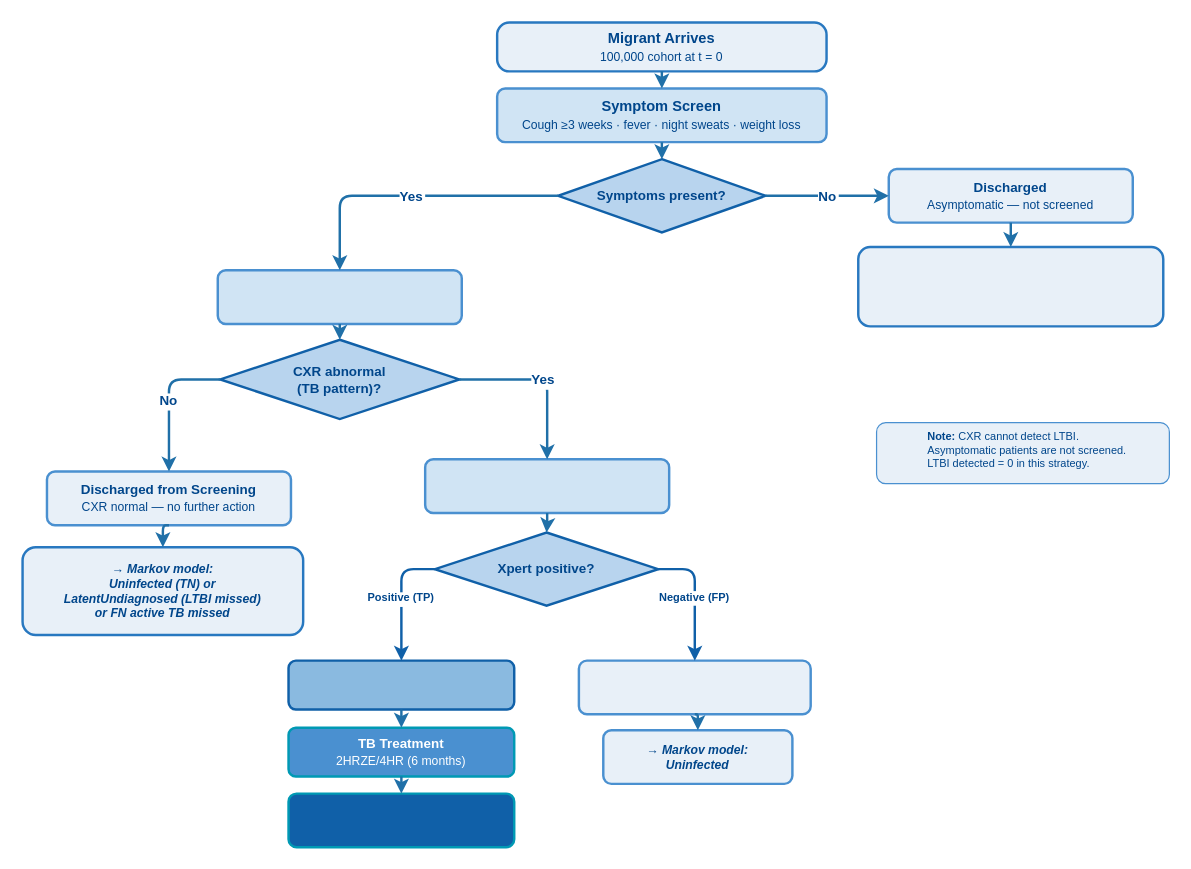
Some shapes in this 1191 by 869 pixel diagram are drawn without their labels. The box of each missing label's shape, as (x1, y1, x2, y2) in pixels:
Active TB Confirmed (TP): (287, 659, 515, 710)
Chest X-ray (CXR) TB-pattern abnormality screen: (216, 268, 462, 325)
Culture Confirmation Xpert MTB/RIF on sputum: (423, 458, 670, 514)
Discharged (TB excluded) Xpert negative — FP for active TB: (577, 659, 811, 715)
→ Markov model: ActiveDiagnosed: (287, 792, 515, 848)
→ Markov model: Uninfected (TN) or LatentUndiagnosed (LTBI missed, never tested): (856, 245, 1164, 327)
